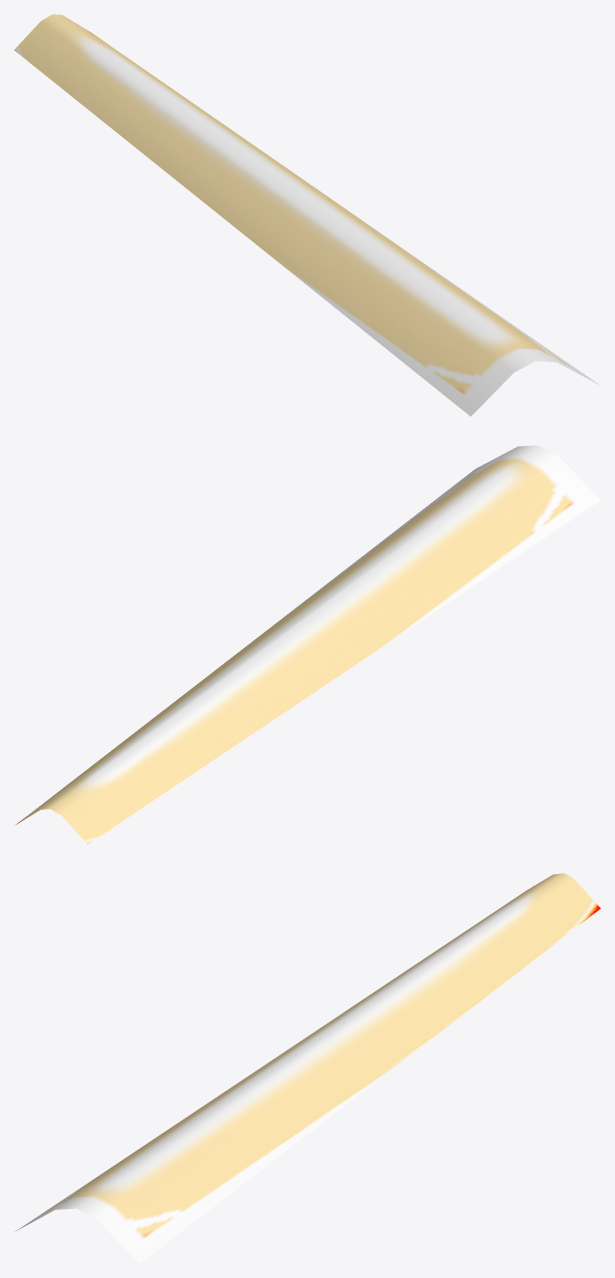
Rendered from MEP_LightCone_02.fbx.
3 views of the same model, one above another, from view 1: azimuth 30°, elevation 25°; view 2: azimuth 150°, elevation 25°; view 3: azimuth 330°, elevation 25° (orthographic). The views are drawn at different scales.
Parts seen in each view (by area): view 1: MEP_Light_Cone_02; view 2: MEP_Light_Cone_02; view 3: MEP_Light_Cone_02.
Boxes of the visible parts, x1,y1,x2,y2 form: MEP_Light_Cone_02: (14, 14, 599, 416); MEP_Light_Cone_02: (16, 445, 600, 844); MEP_Light_Cone_02: (15, 873, 600, 1263).
Bounding box in the file's own units: 2.66 × 0.8083 × 17.49.
1 material, 1 textured.
